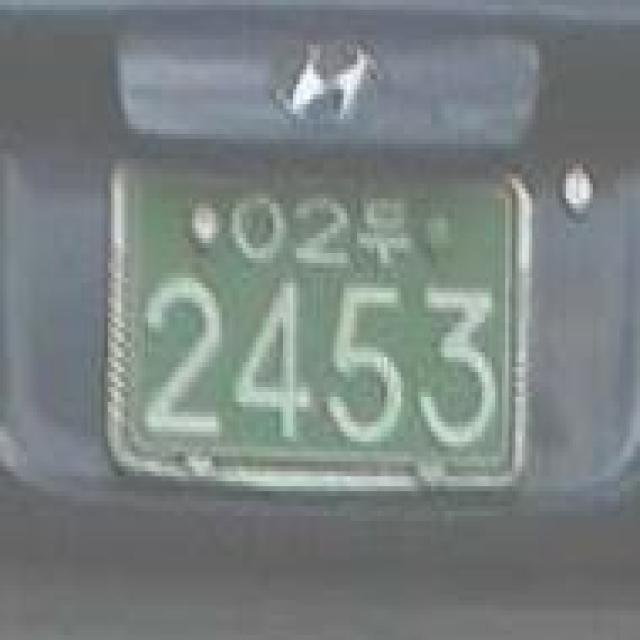illegal_plate: (96, 138, 542, 522)
